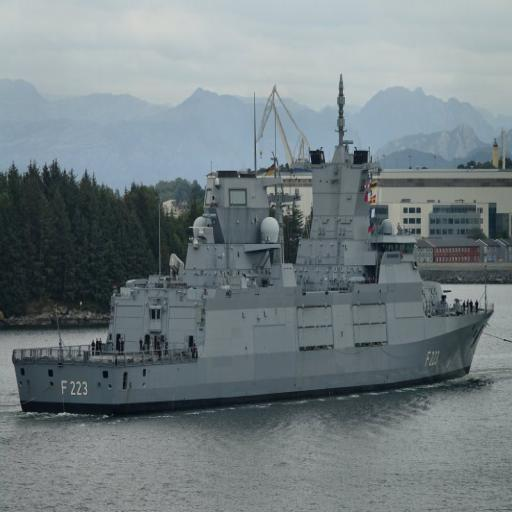Fragata: (3, 59, 505, 442)
